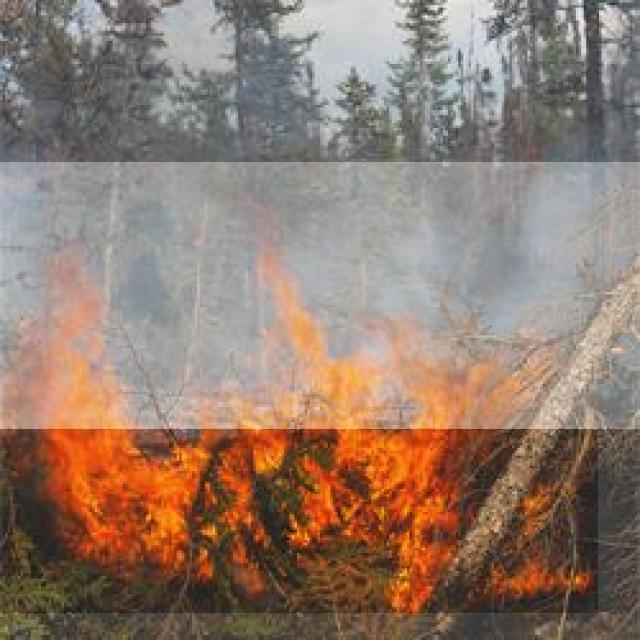Fire: (1, 233, 598, 613)
Smoke: (0, 162, 640, 429)
